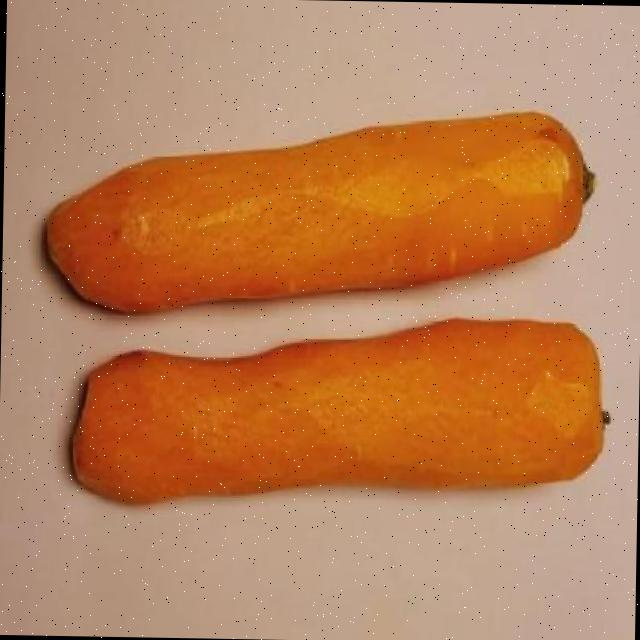carrot: (46, 113, 593, 312), (72, 319, 602, 504)
